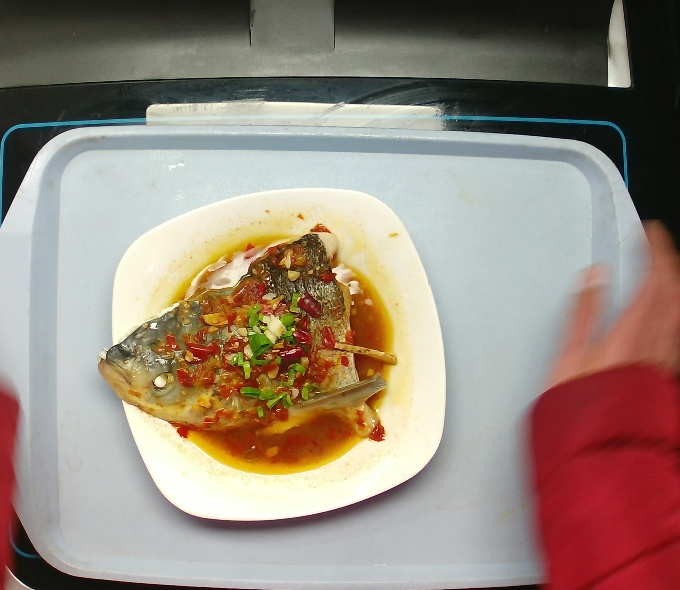wcq-DuoJiaoYuTou: (100, 205, 400, 478)
